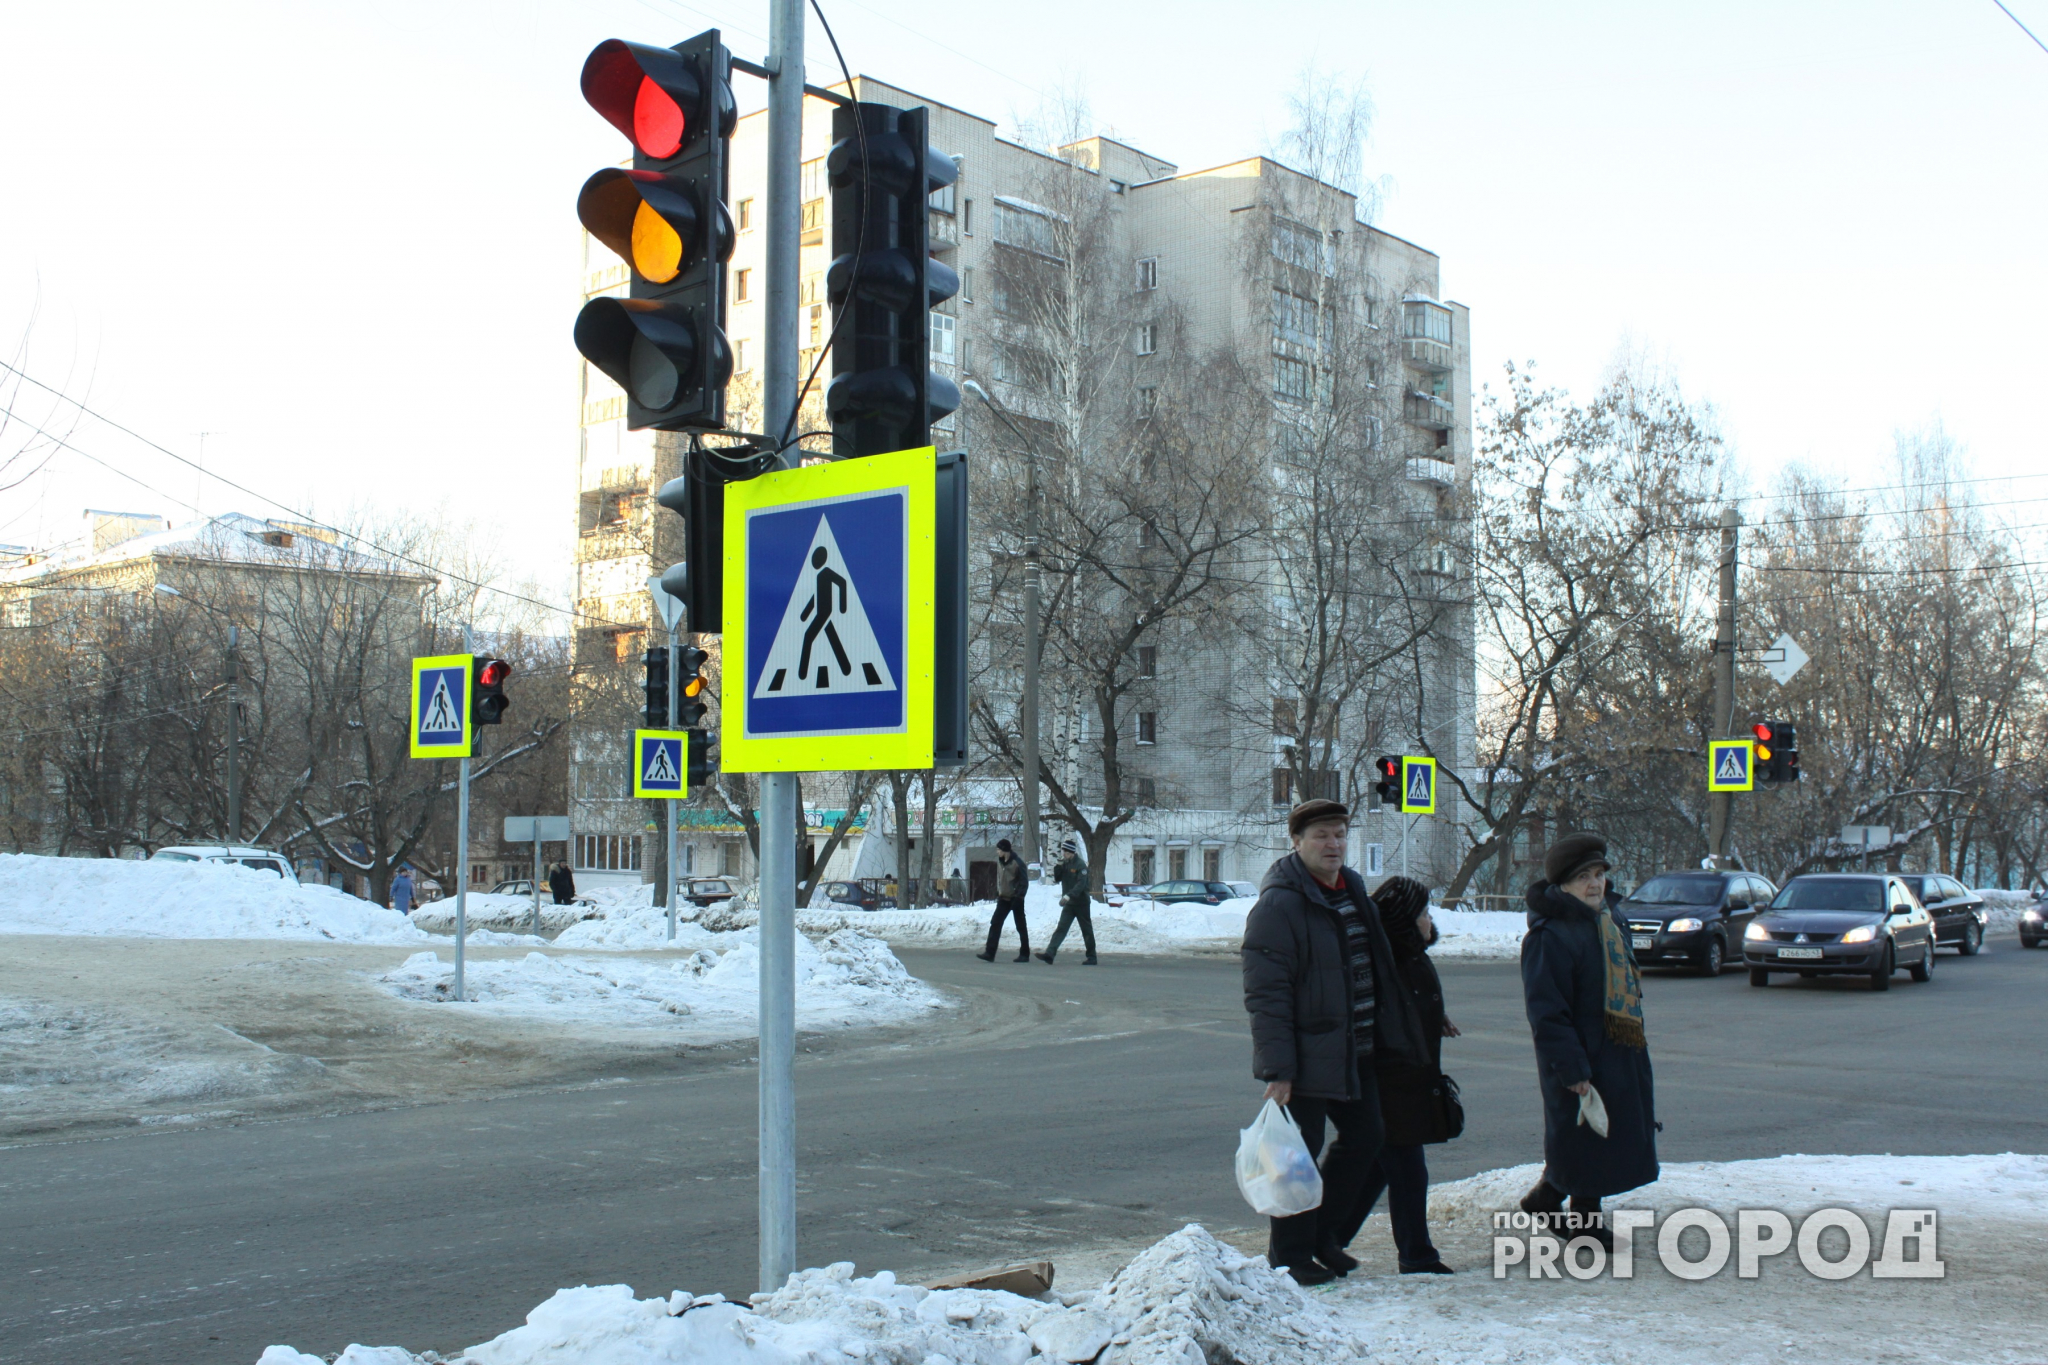tl: (576, 27, 732, 436), (830, 99, 979, 452), (644, 651, 707, 734), (464, 647, 510, 730), (1756, 713, 1807, 785), (1364, 753, 1407, 809)
